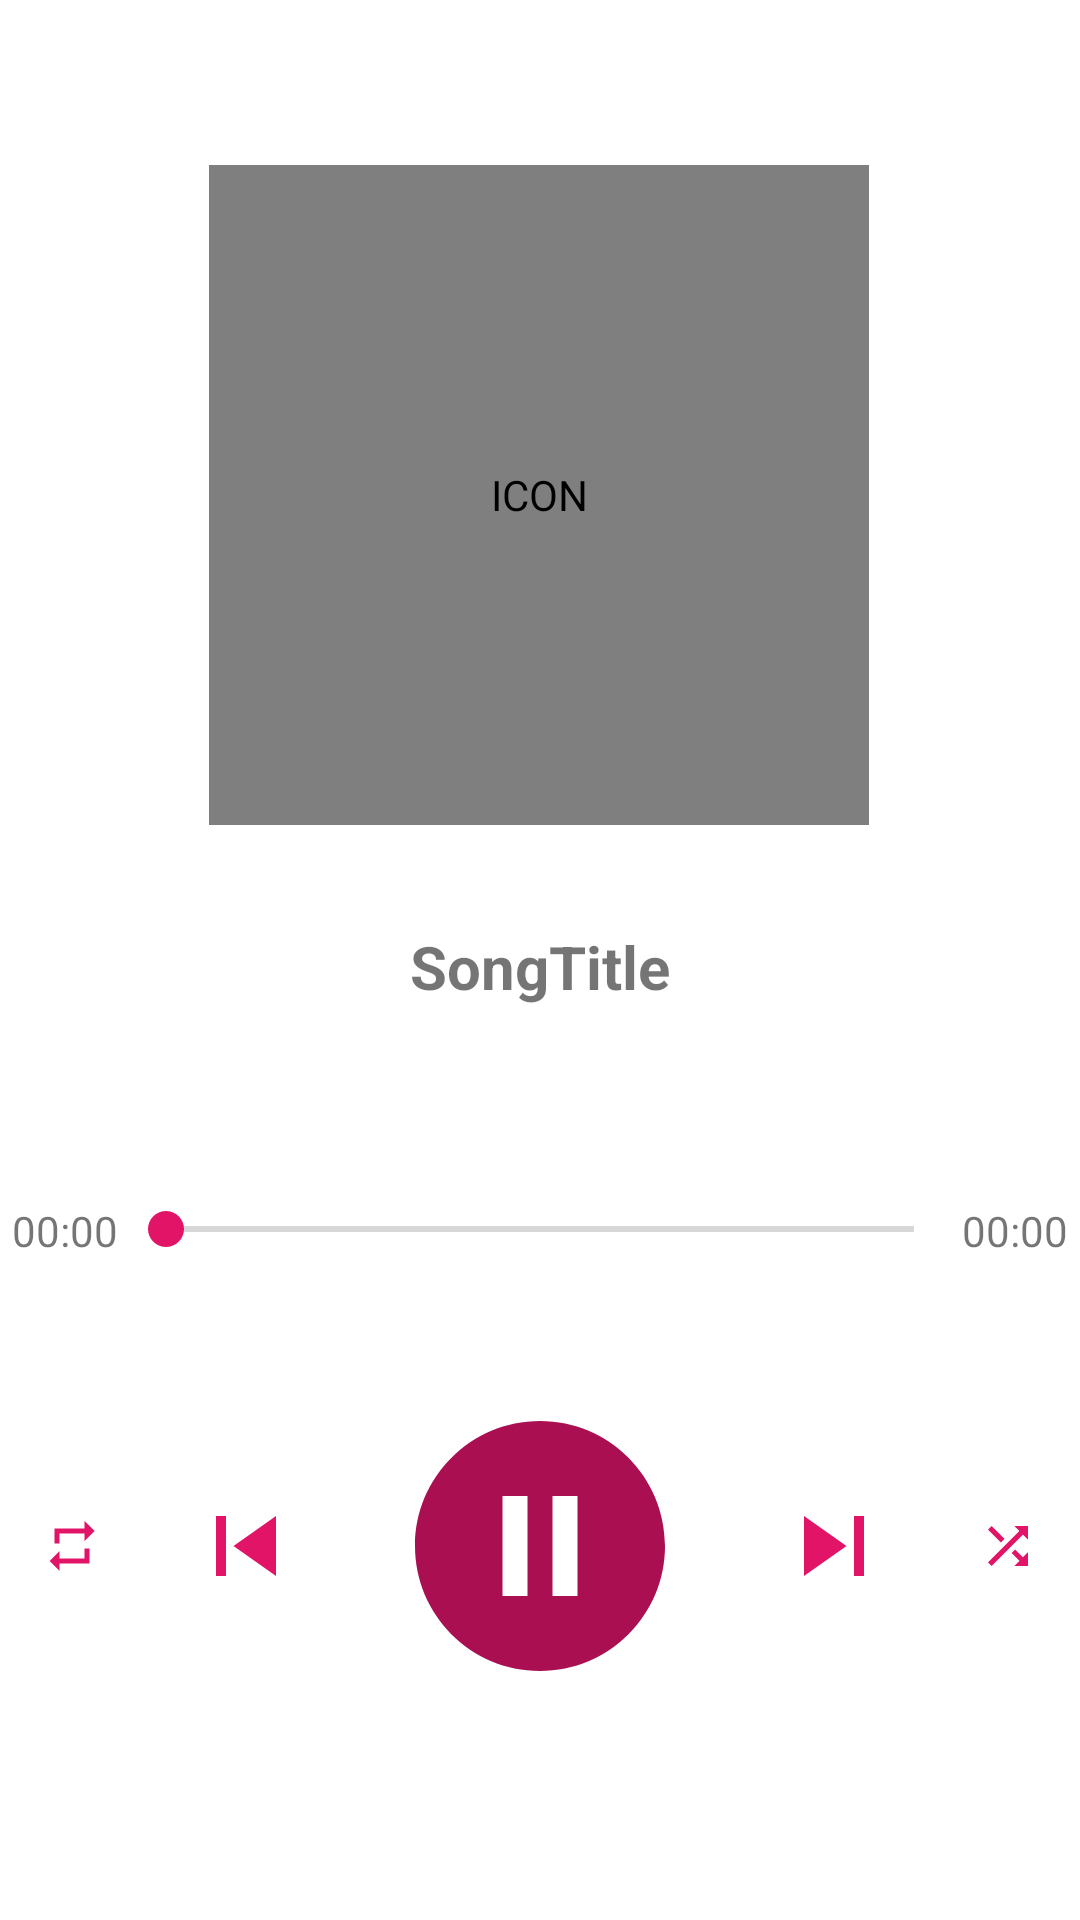

Screen size 1080 × 1920. Icon name, then its center in pixels as point (x, y):
next: point (834, 1546)
pause: point (540, 1546)
previous: point (246, 1546)
repeat: point (72, 1546)
shuffle: point (1008, 1546)
